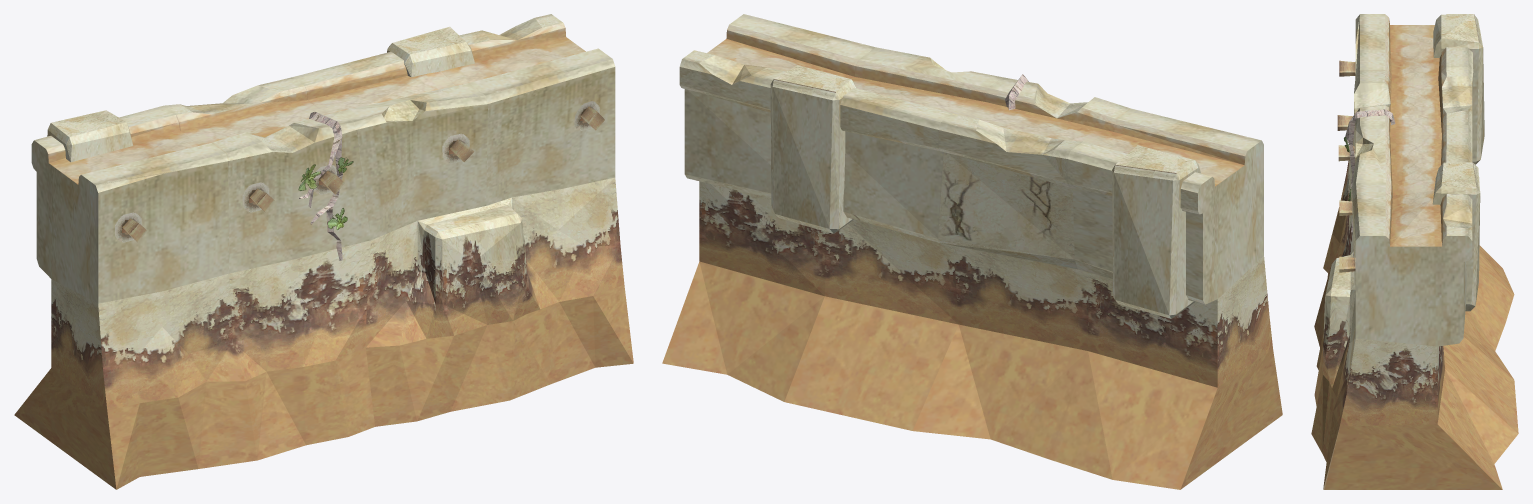
File: C2SMWA20LG_H.obj
3 views of the same model, side by side, from view 1: azimuth 30°, elevation 25°; view 2: azimuth 150°, elevation 25°; view 3: azimuth 270°, elevation 25° (orthographic). The views are drawn at different scales.
Parts seen in each view (by area): view 1: Node 0; view 2: Node 0; view 3: Node 0.
Boxes of the visible parts, left/top/right/bottom form: Node 0: left=14, top=14, right=633, bottom=489; Node 0: left=662, top=14, right=1282, bottom=489; Node 0: left=1311, top=14, right=1518, bottom=489.
Size of the model in its own units: 20 by 11.07 by 7.9.
5 materials, 5 textured.
